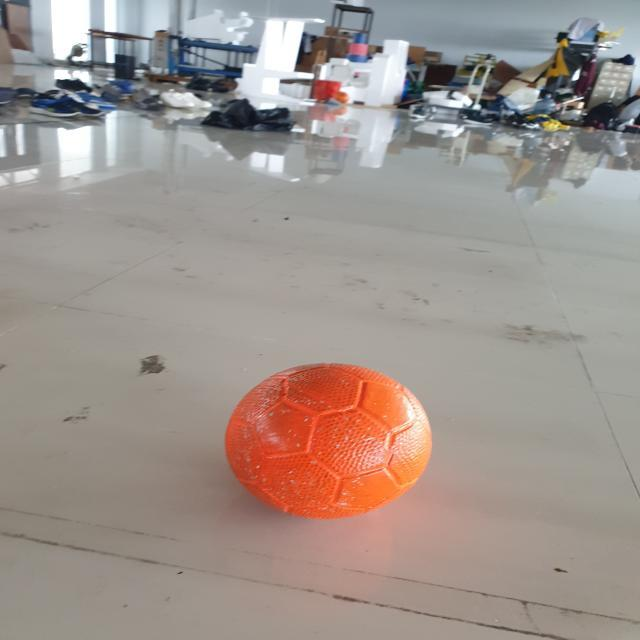bola: (217, 358, 439, 526)
